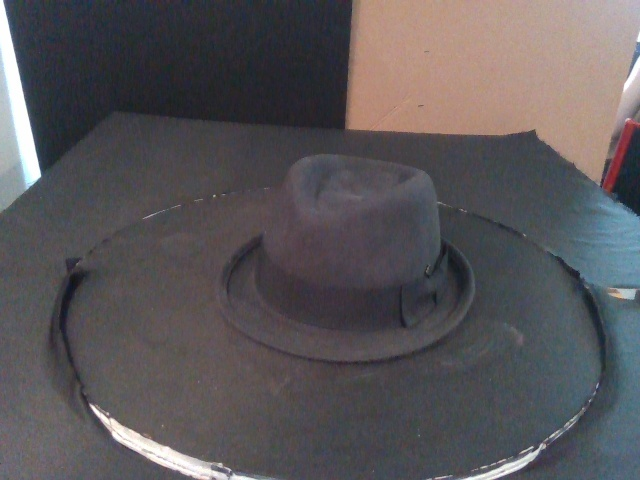hat: (217, 156, 477, 362)
